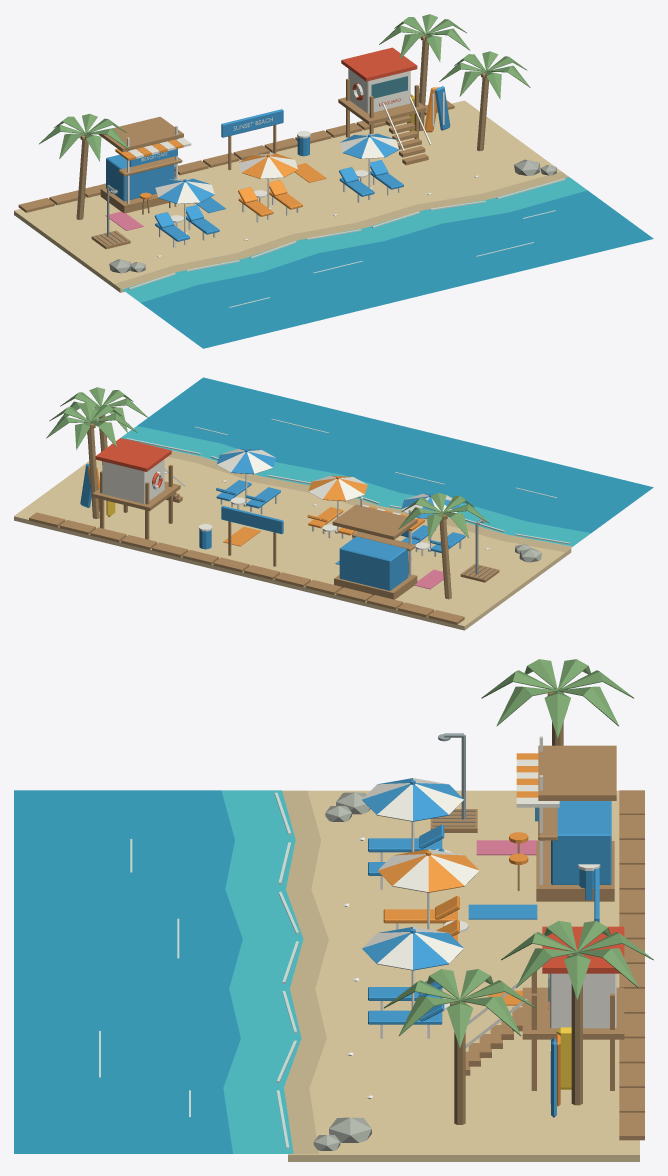
Rendered from Beach.fbx.
3 views of the same model, one above another, from view 1: azimuth 30°, elevation 25°; view 2: azimuth 150°, elevation 25°; view 3: azimuth 270°, elevation 25° (orthographic). The views are drawn at different scales.
Parts seen in each view (by area): view 1: Deep Sea, Dry Sand Surface, Shallow Water, Wet Sand Shore, Beach Kiosk Body, Kiosk Flat Roof, Lifeguard Flat Roof, Lifeguard Hut, Striped Beach Umbrella.001, Striped Beach Umbrella, Striped Beach Umbrella.002, Beach Welcome Sign (+8 smaller); view 2: Deep Sea, Dry Sand Surface, Shallow Water, Beach Kiosk Body, Beach Sand Base, Wet Sand Shore, Lifeguard Hut, Kiosk Flat Roof, Lifeguard Flat Roof, Striped Beach Umbrella.001, Striped Beach Umbrella.002, Beach Welcome Sign (+8 smaller); view 3: Deep Sea, Dry Sand Surface, Shallow Water, Wet Sand Shore, Beach Kiosk Body, Kiosk Flat Roof, Striped Beach Umbrella.002, Striped Beach Umbrella.001, Striped Beach Umbrella, Lifeguard Hut, Beach Sand Base, Lifeguard Deck (+13 smaller).
Part boxes in pixels (x1,y1,x2,y2): Deep Sea: (141, 190, 653, 348); Dry Sand Surface: (14, 100, 561, 283); Shallow Water: (122, 177, 587, 302); Wet Sand Shore: (115, 171, 568, 289); Beach Kiosk Body: (106, 154, 174, 201); Kiosk Flat Roof: (99, 116, 183, 152); Lifeguard Flat Roof: (341, 47, 417, 81); Lifeguard Hut: (348, 69, 410, 113); Striped Beach Umbrella.001: (238, 153, 297, 179); Striped Beach Umbrella: (155, 178, 214, 203); Striped Beach Umbrella.002: (340, 133, 398, 158); Beach Welcome Sign: (221, 109, 283, 137); Deep Sea: (137, 377, 653, 532); Dry Sand Surface: (14, 457, 564, 625); Shallow Water: (121, 426, 590, 546); Beach Kiosk Body: (339, 536, 408, 590); Beach Sand Base: (14, 476, 571, 630); Wet Sand Shore: (168, 450, 572, 552); Lifeguard Hut: (102, 459, 164, 503); Kiosk Flat Roof: (332, 504, 417, 539); Lifeguard Flat Roof: (95, 438, 171, 471); Striped Beach Umbrella.001: (308, 475, 367, 501); Striped Beach Umbrella.002: (216, 448, 275, 474); Beach Welcome Sign: (221, 506, 283, 534); Deep Sea: (14, 790, 242, 1153); Dry Sand Surface: (307, 790, 639, 1154); Shallow Water: (221, 790, 303, 1153); Wet Sand Shore: (282, 790, 328, 1154); Beach Kiosk Body: (551, 801, 611, 884); Kiosk Flat Roof: (538, 745, 616, 800); Striped Beach Umbrella.002: (362, 927, 463, 970); Striped Beach Umbrella.001: (378, 849, 479, 892); Striped Beach Umbrella: (362, 778, 463, 821); Lifeguard Hut: (550, 973, 616, 1028); Beach Sand Base: (288, 1154, 639, 1161); Lifeguard Deck: (522, 987, 624, 1039).
Bounding box in the file's own units: 2241 × 518 × 1636.
